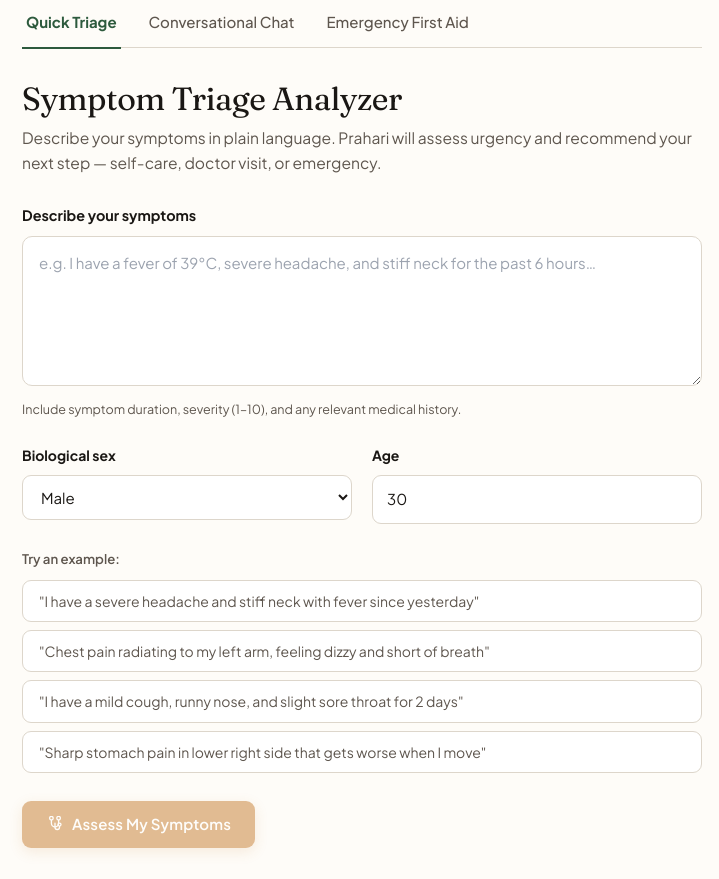
it: TriagePage Component Integration › renders error boundary alert states
This screenshot has width=719, height=879.
Replace the text in the text box labelled "Describe your symptoms" with "Severe back pain": (362, 311) left=22, top=236, right=702, bottom=386
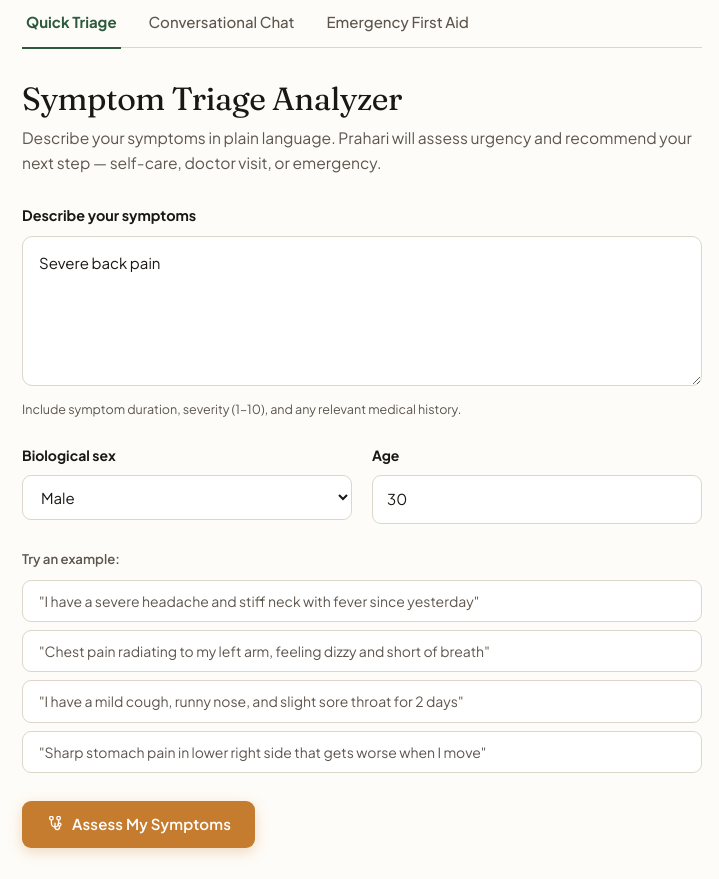
Click the button "Assess My Symptoms": (138, 824) left=22, top=801, right=255, bottom=848
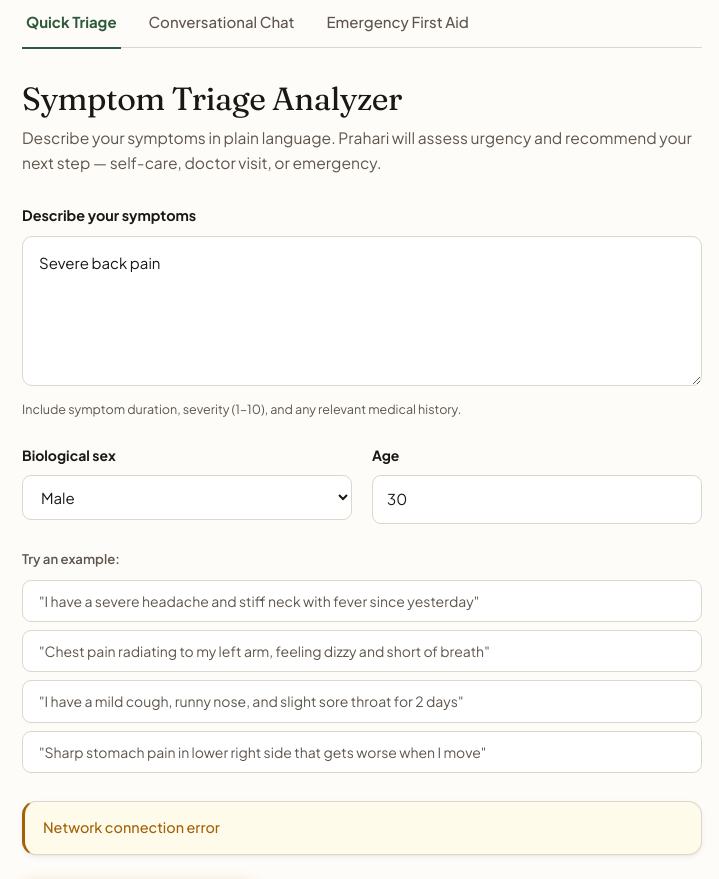
Result: the text "Network connection error" is shown at left=43, top=818, right=220, bottom=836
